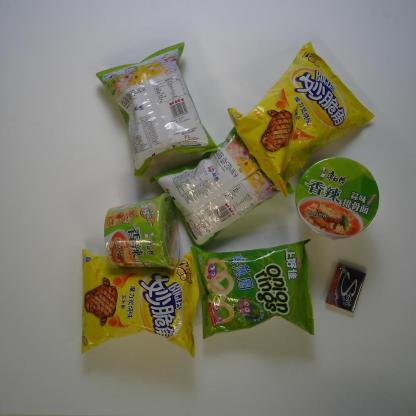Gum: (324, 262, 366, 313)
Instant Noodles: (294, 156, 380, 241), (104, 191, 182, 271)
Puffed Food: (227, 39, 376, 200), (149, 125, 295, 249), (95, 42, 218, 180), (80, 248, 200, 359), (189, 237, 315, 340)
